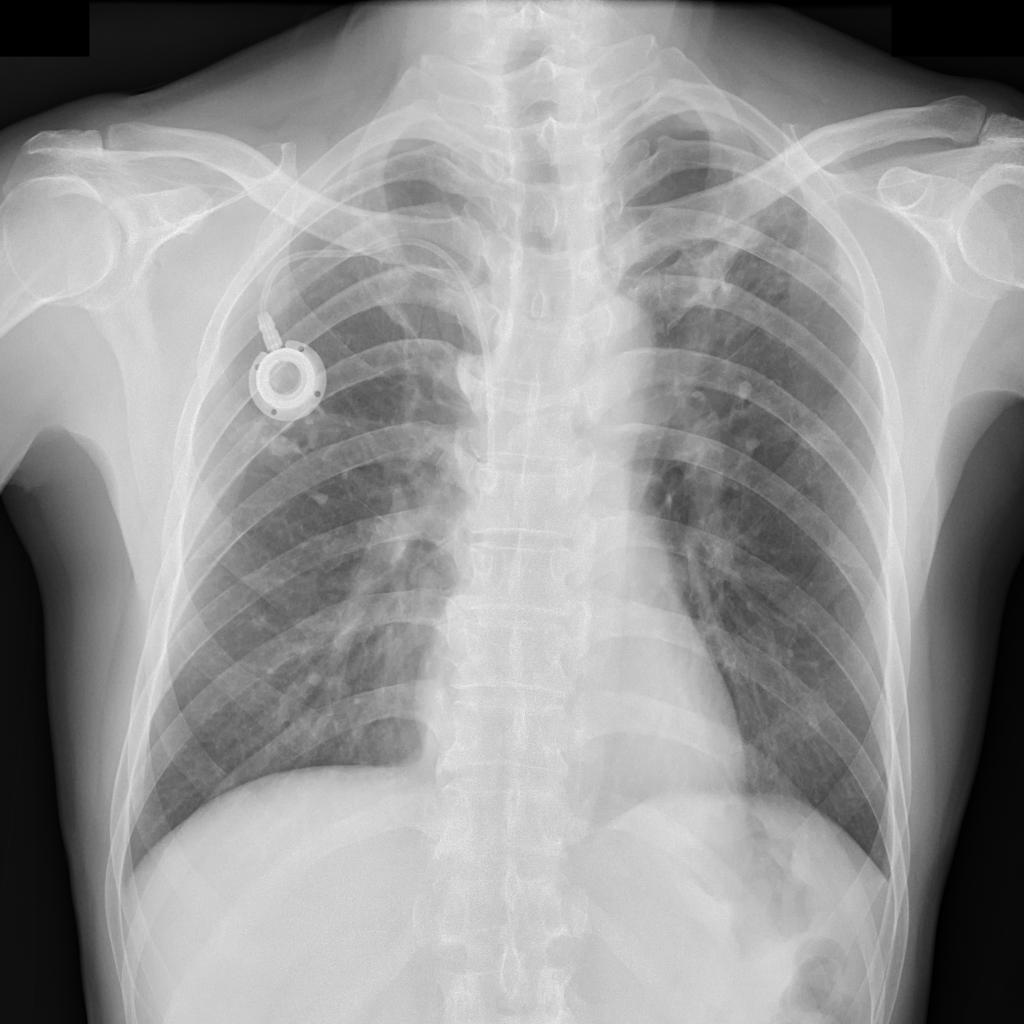Nodule: (312, 492, 329, 506)
